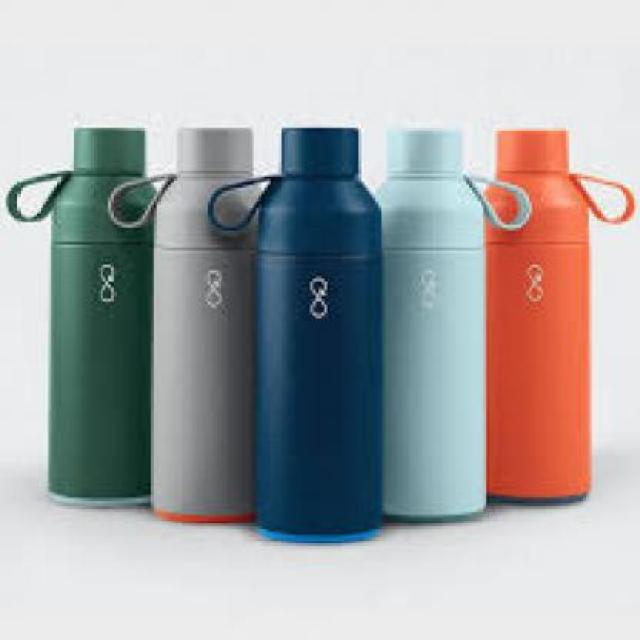Drinking: (244, 106, 390, 572), (472, 126, 596, 530), (40, 116, 146, 515)
